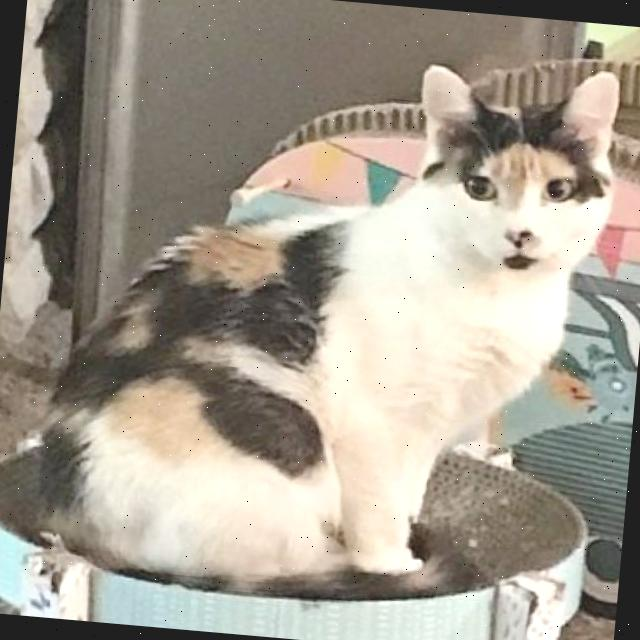calico_cat: (394, 51, 632, 297)
